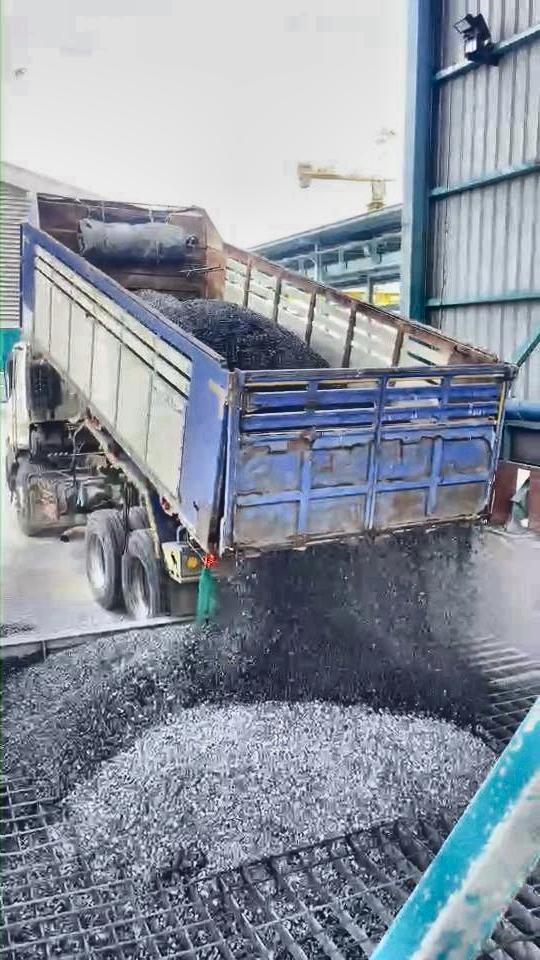gravel: (67, 705, 493, 879), (194, 526, 485, 725), (3, 625, 234, 798), (138, 290, 327, 369)
